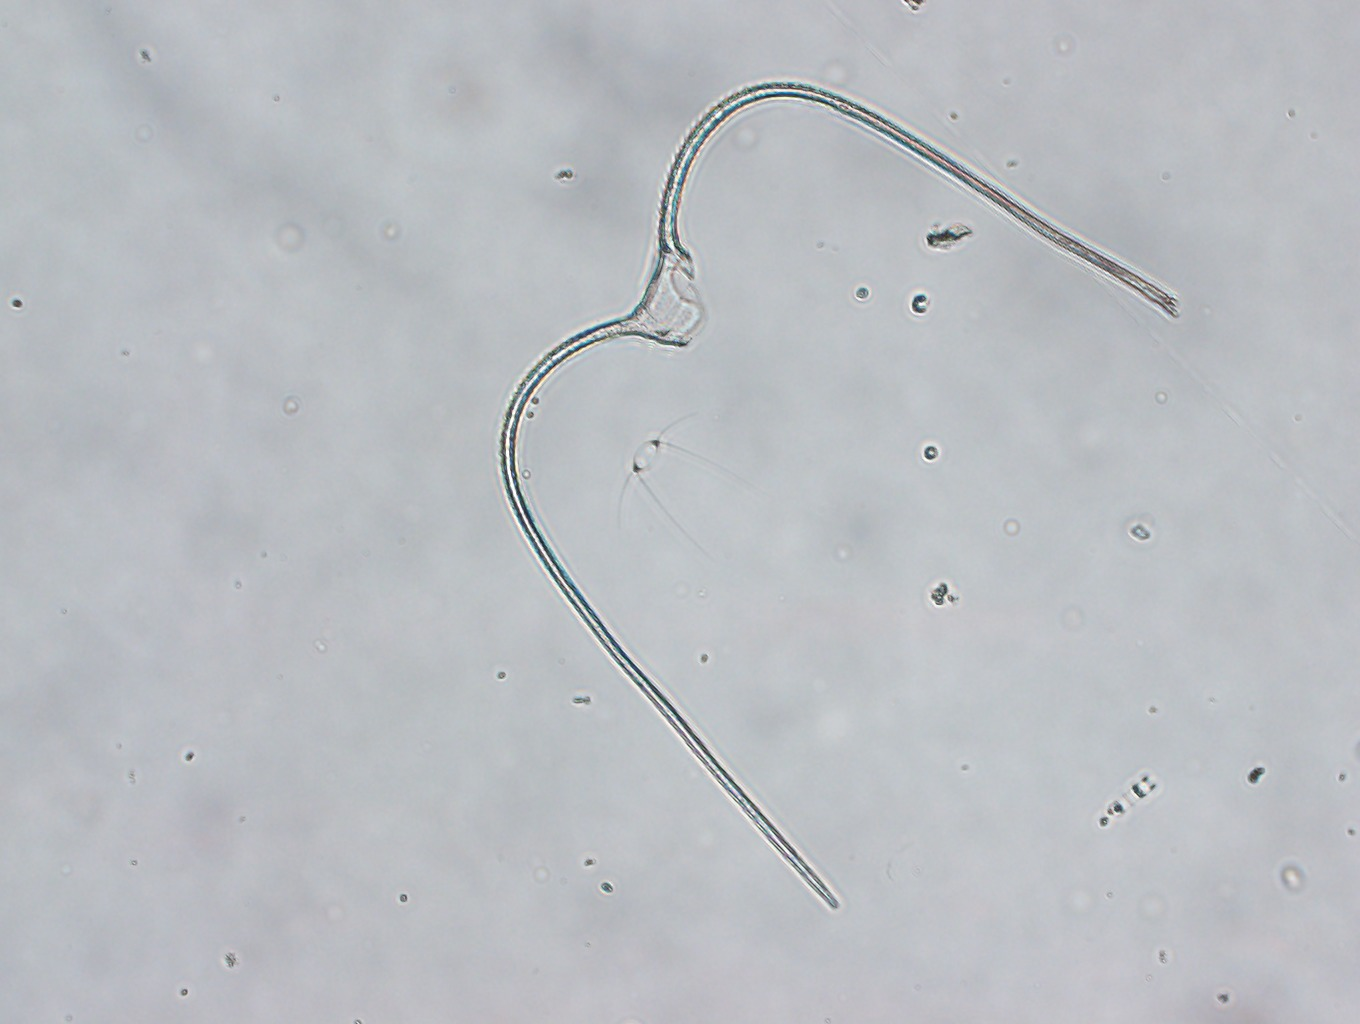ceratium trichoceros: (491, 63, 1184, 918)
chaetoceros: (600, 409, 761, 556)
